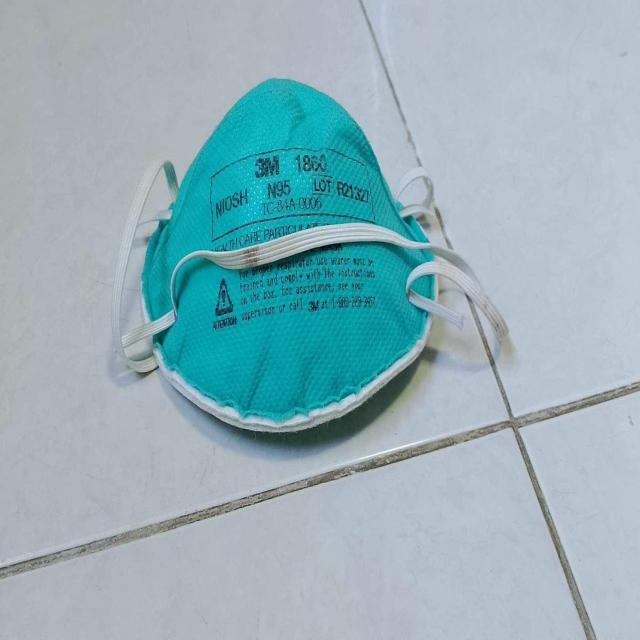General: (110, 75, 506, 438)
